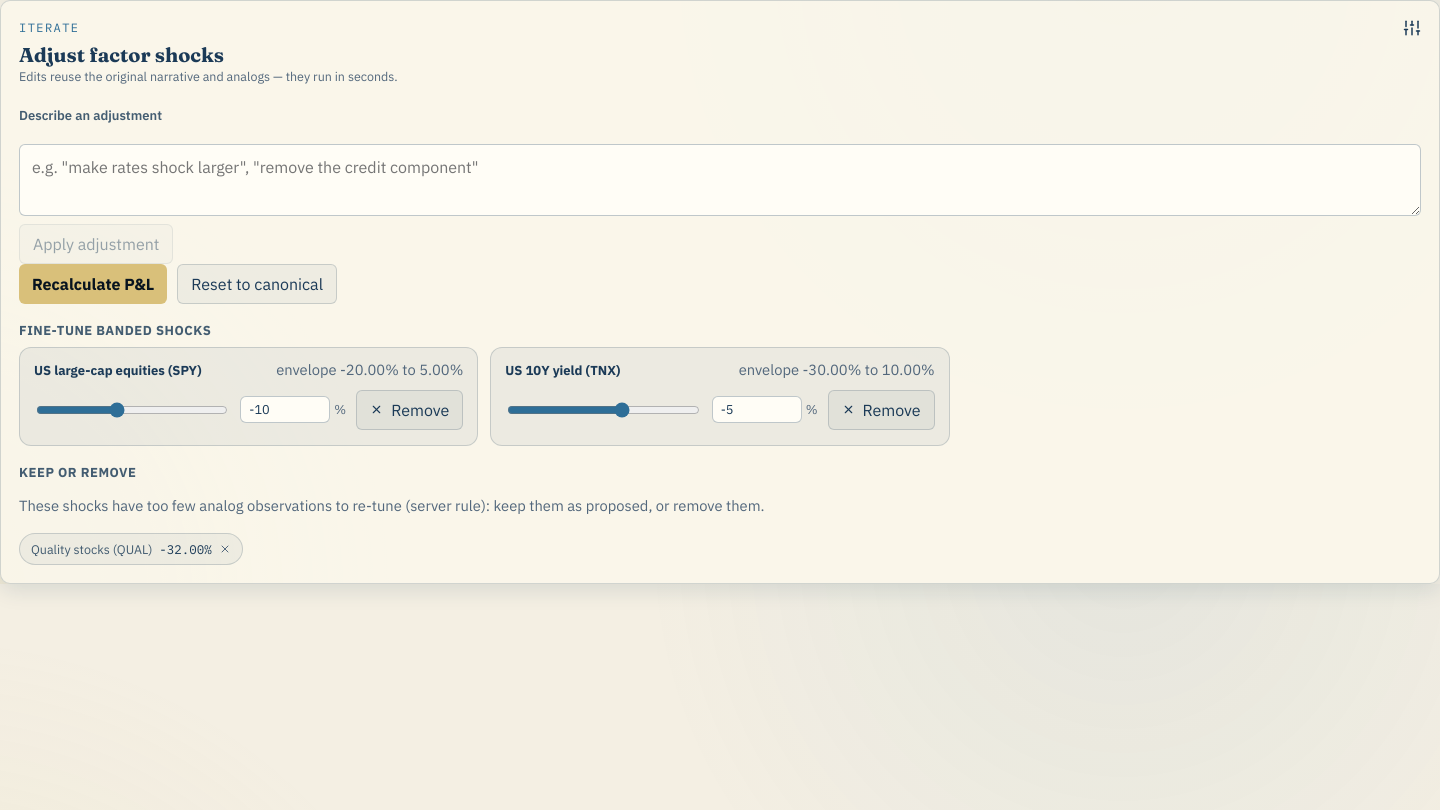
Test: AdjustmentPanel presentation › shows the live preview after an edit and drops a removed chip's contribution
The image size is (1440, 810).
Expected: the text "After your edits" is not shown
Click the button "Quality stocks (QUAL) -32.00%" at x=131, y=549, box [19,533,243,565]
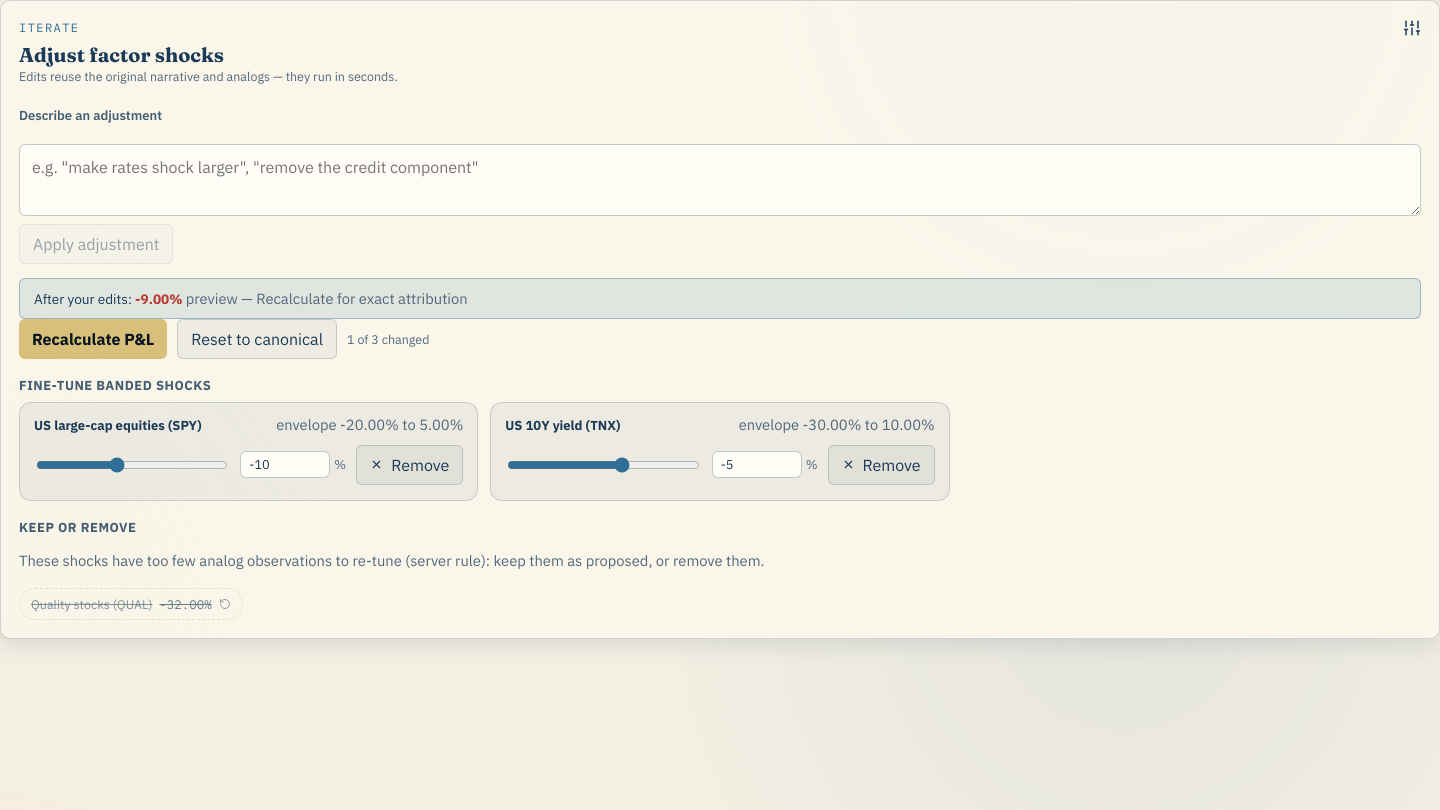
Expected: the text "After your edits" is shown, [34,290,132,308]
Expected: the text "-9.00%" is shown, [135,290,182,308]
